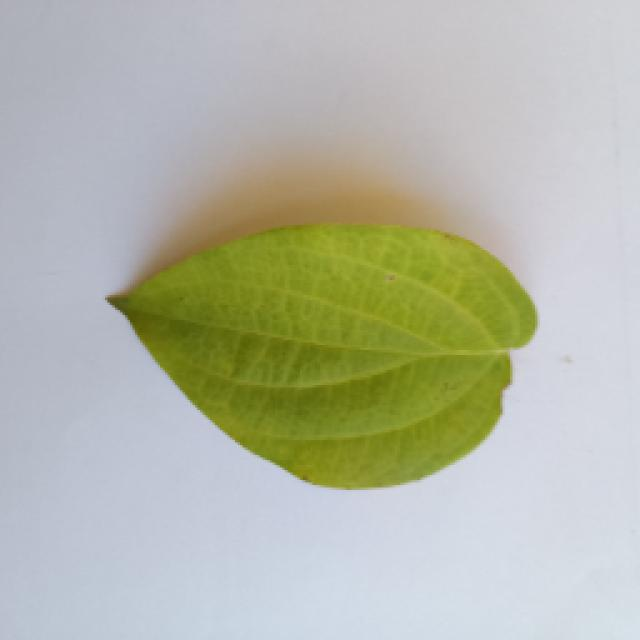slow-decline: (105, 218, 537, 488)
